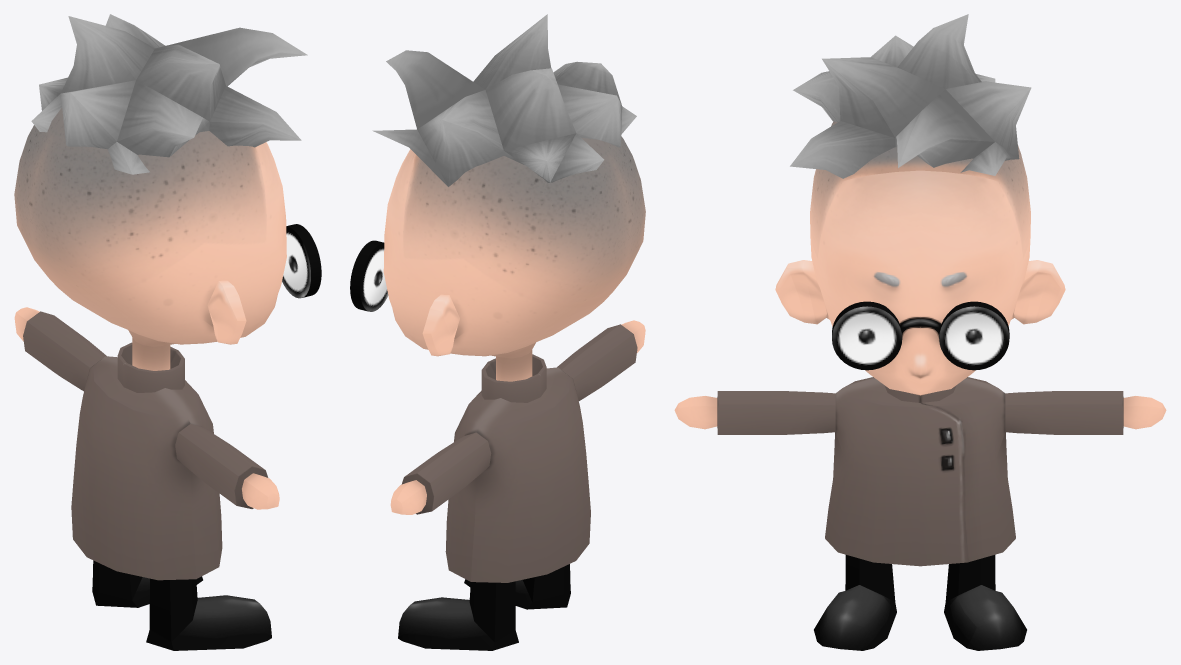
Rendered from player-prof2.fbx.
3 renders of one model, left to right at view 1: azimuth 30°, elevation 25°; view 2: azimuth 150°, elevation 25°; view 3: azimuth 270°, elevation 25°, orthographic. The views are drawn at different scales.
Parts seen in each view (by area): view 1: prof2; view 2: prof2; view 3: prof2.
Boxes of the visible parts, left/top/right/bottom form: prof2: left=14, top=14, right=321, bottom=650; prof2: left=350, top=14, right=645, bottom=650; prof2: left=674, top=14, right=1166, bottom=650.
Size of the model in its own units: 82.73 by 177 by 138.
